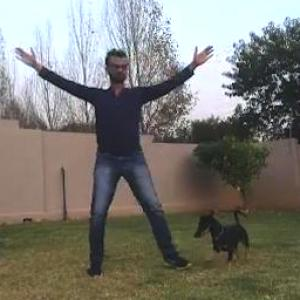takeoff: (13, 39, 204, 272)
